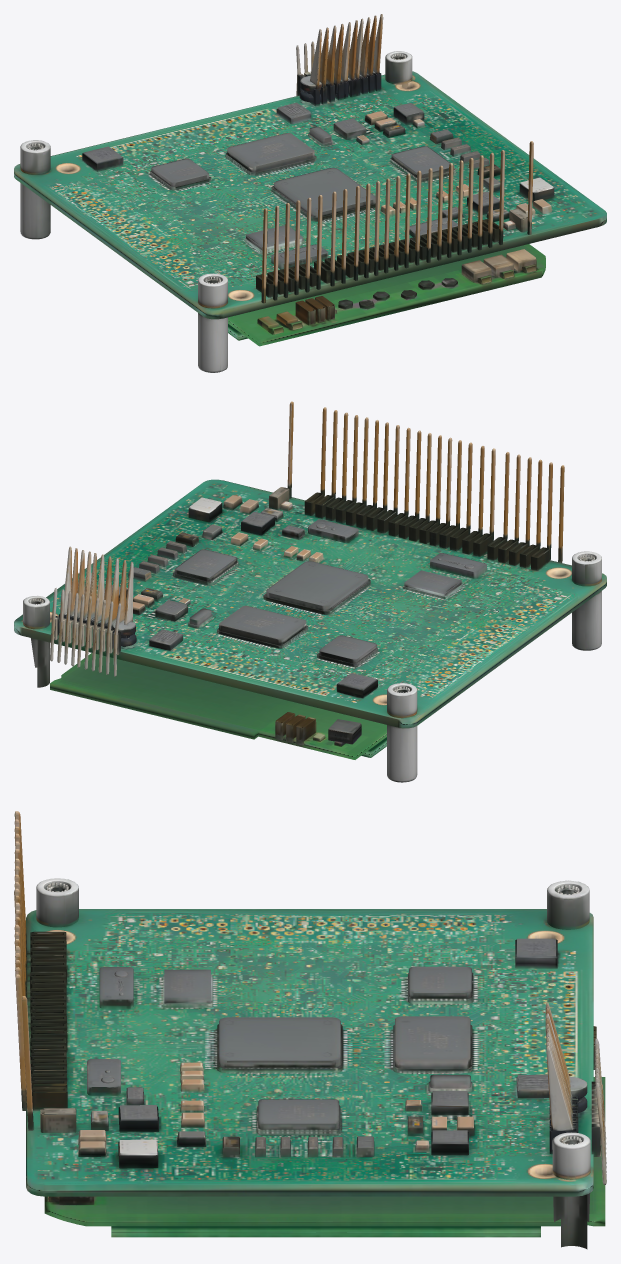
The model's file is sat1_9.fbx.
3 views of the same model, one above another, from view 1: azimuth 30°, elevation 25°; view 2: azimuth 150°, elevation 25°; view 3: azimuth 270°, elevation 25° (orthographic). The views are drawn at different scales.
Parts seen in each view (by area): view 1: tripo_node_970e5e05; view 2: tripo_node_970e5e05; view 3: tripo_node_970e5e05.
Part boxes in pixels (x1,y1,x2,y2): tripo_node_970e5e05: (14,14,606,372); tripo_node_970e5e05: (14,401,606,782); tripo_node_970e5e05: (14,811,606,1249).
Bounding box in the file's own units: 0.8472 × 0.3218 × 0.7681.
